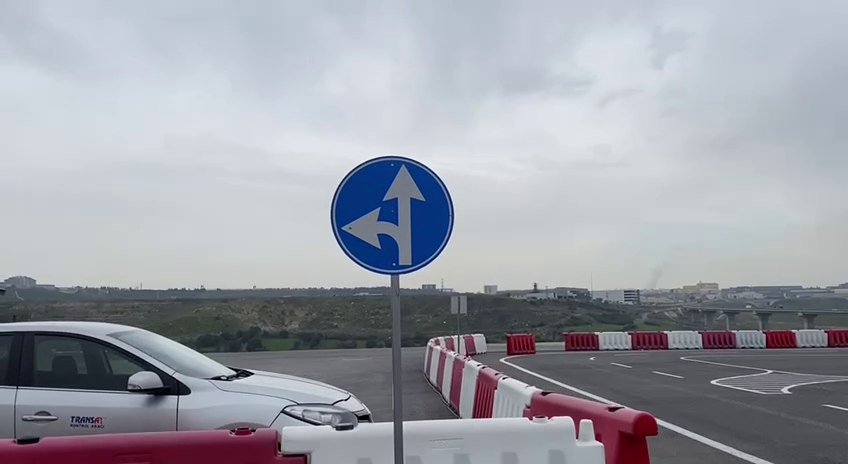forwardAndLeft: (327, 152, 456, 279)
